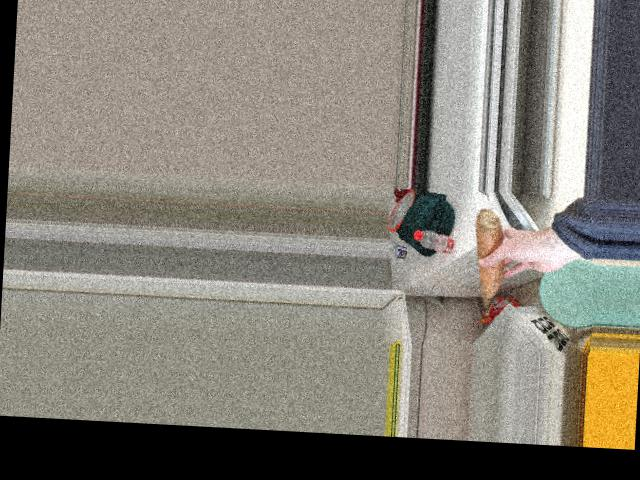sweet_potato: (480, 221, 505, 297)
